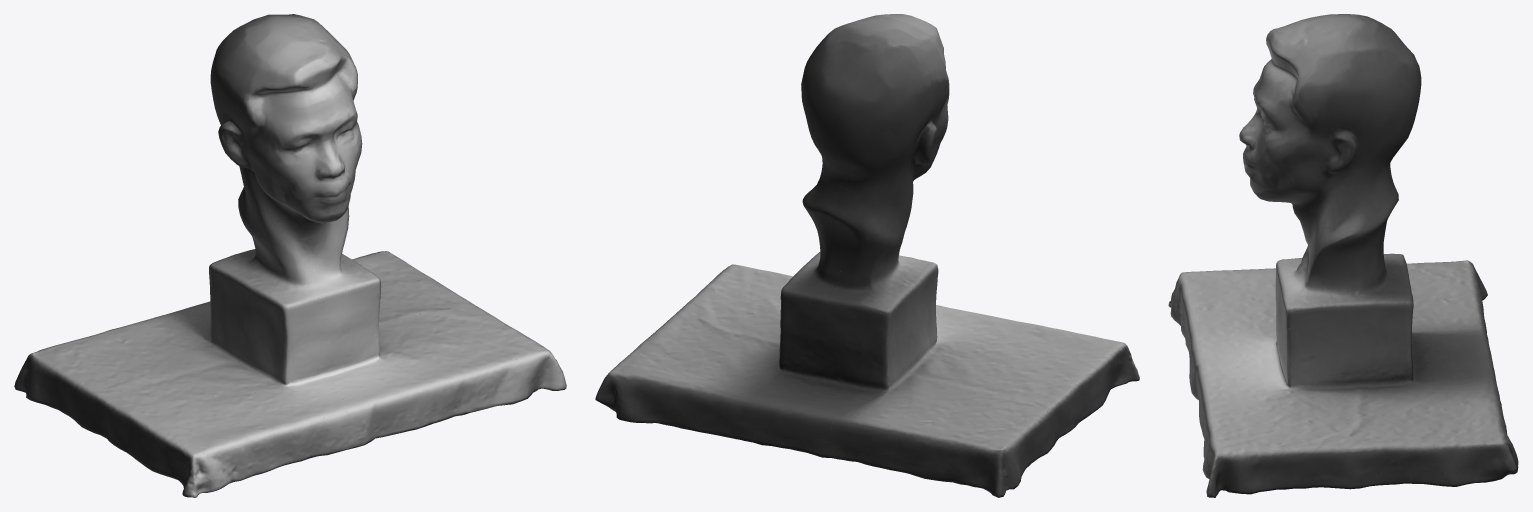
The model's file is 石膏头像_男中青年_分模胸像03_opt.glb.
3 views of the same model, side by side, from view 1: azimuth 30°, elevation 25°; view 2: azimuth 150°, elevation 25°; view 3: azimuth 270°, elevation 25° (orthographic).
Parts seen in each view (by area): view 1: lambert4SG, lambert4SG_1; view 2: lambert4SG, lambert4SG_1; view 3: lambert4SG, lambert4SG_1.
Part boxes in pixels (<box>): lambert4SG: <box>14,14,566,497</box>; lambert4SG_1: <box>18,15,562,494</box>; lambert4SG: <box>595,14,1139,497</box>; lambert4SG_1: <box>612,25,1127,493</box>; lambert4SG: <box>1168,14,1518,497</box>; lambert4SG_1: <box>1171,17,1517,491</box>.
Size of the model in its own units: 0.3535 by 0.3 by 0.2572.
Materials: 1 (1 with a texture image).
